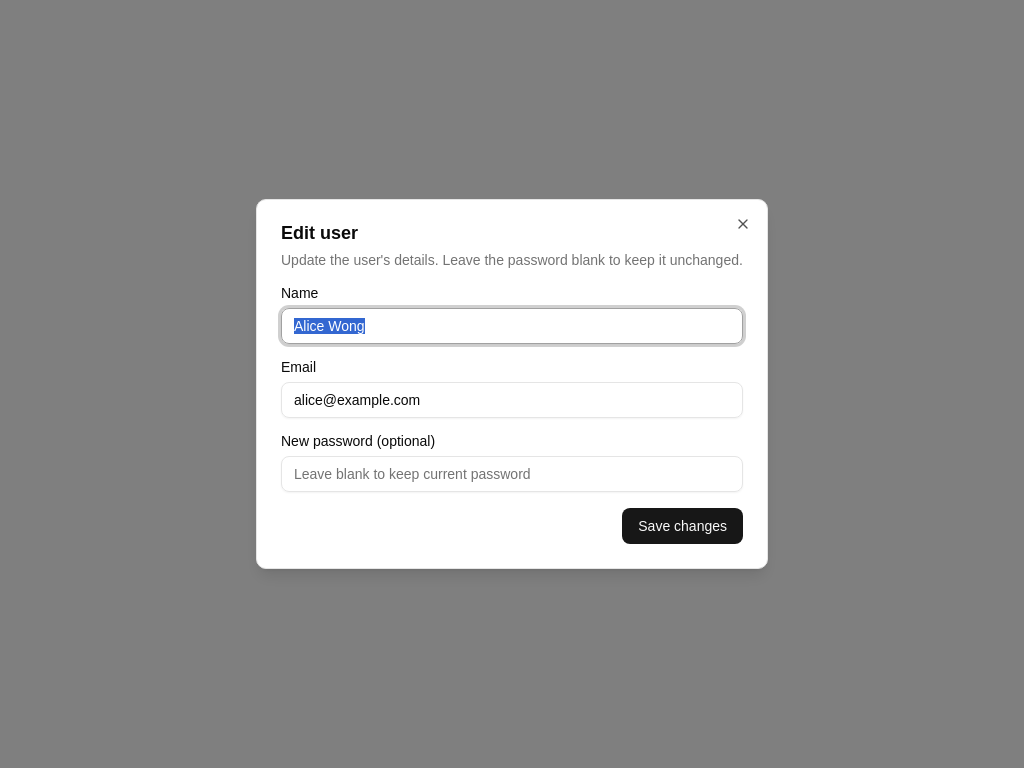
Test case: UserFormDialog (edit mode) › shows a validation error for a too-short new password
Type "short" into the password field labelled "New password (optional)" at (512, 474), box [281, 456, 743, 492]
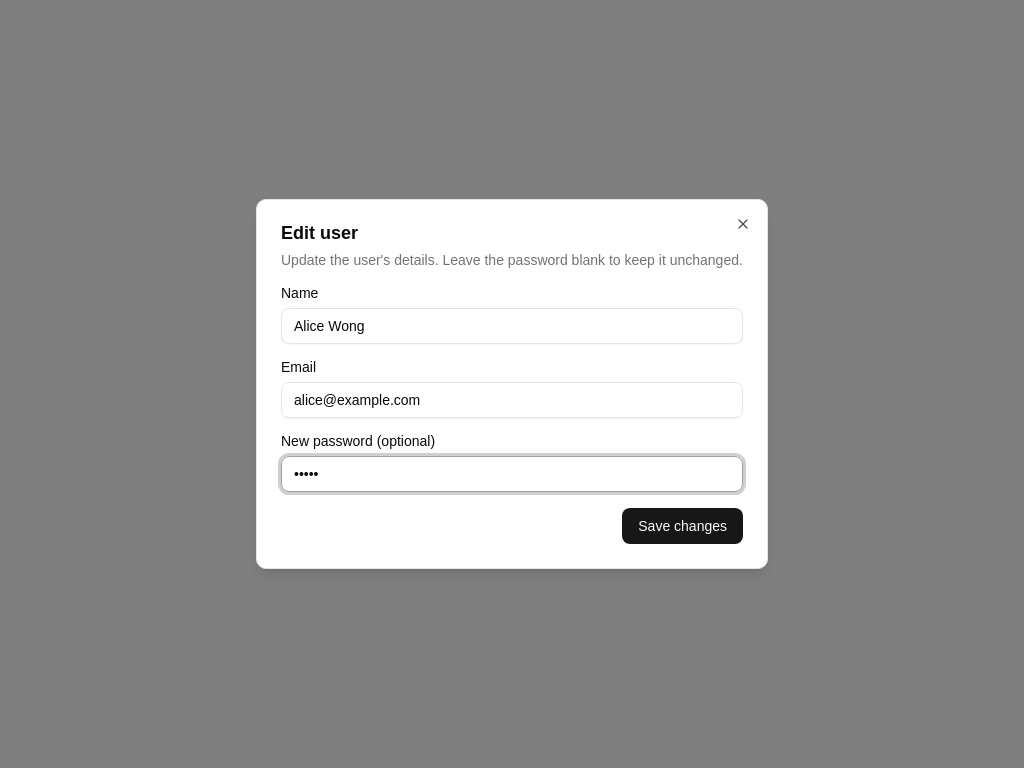
Click the button "Save changes" at (683, 526), box [622, 508, 743, 544]
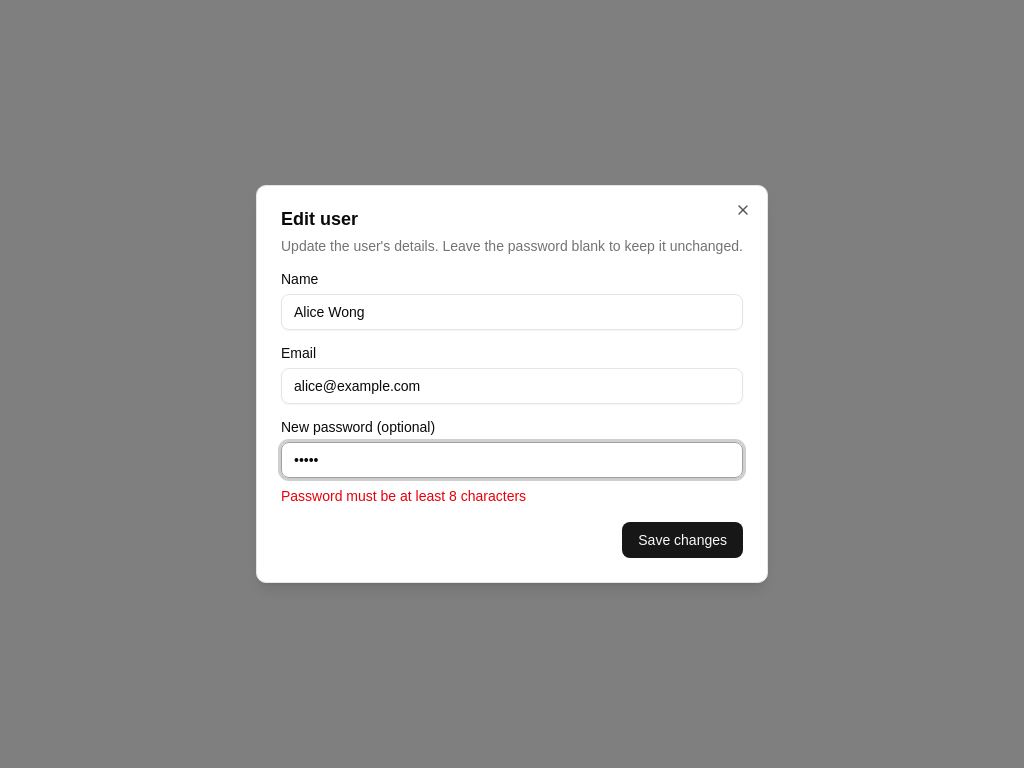
Check: the text "Password must be at least 8 characters" is shown, box [281, 488, 526, 504]
